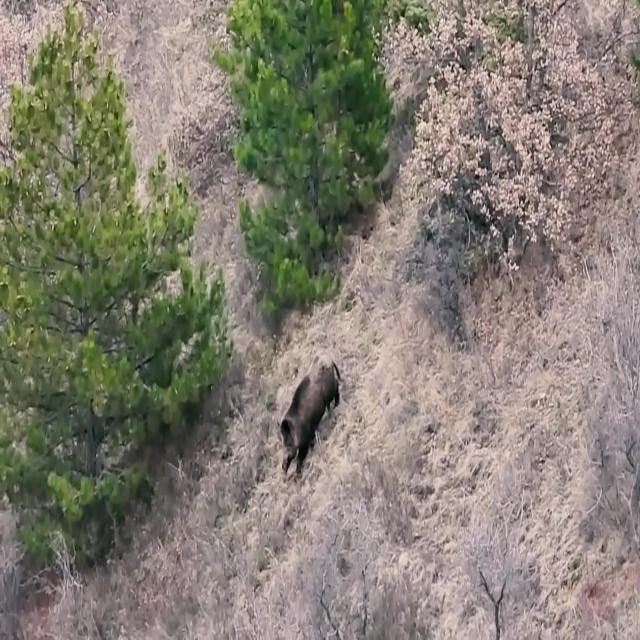pig: (272, 348, 376, 476)
